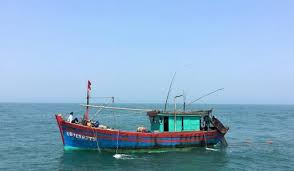tau_dansu: (48, 95, 236, 153)
